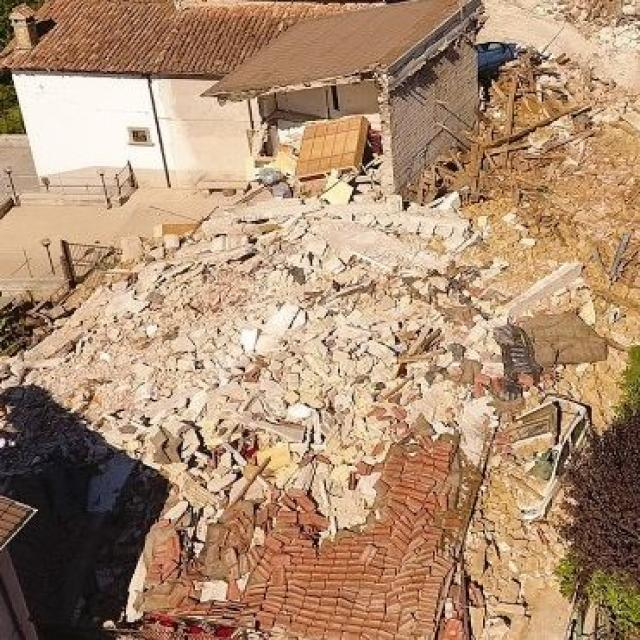collapsed_building: (110, 192, 508, 638)
